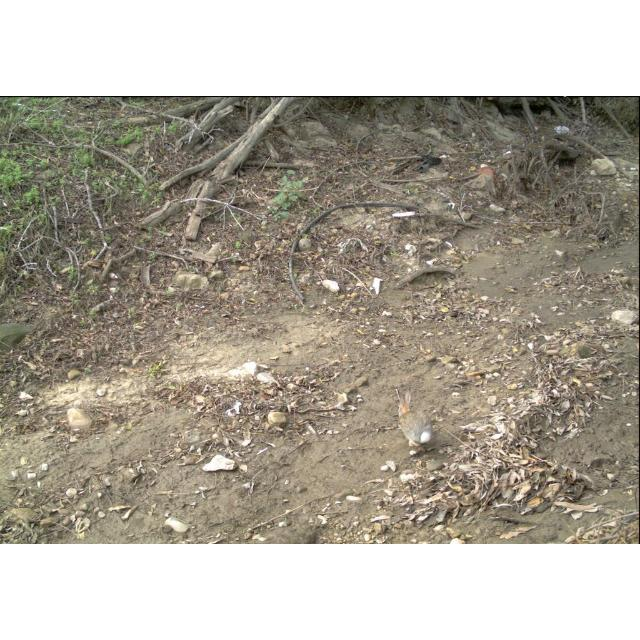animals: (393, 389, 437, 455)
